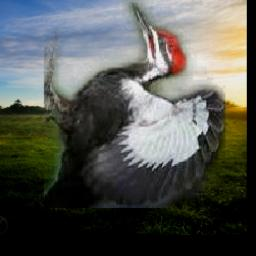Woodpecker: (44, 0, 225, 208)
